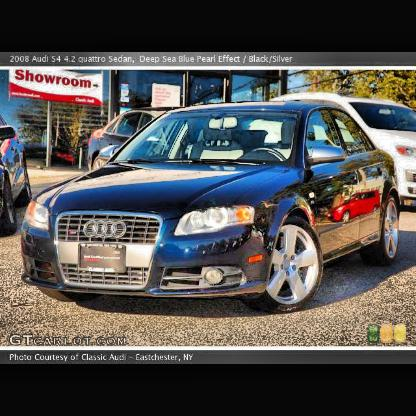Audi S4 Sedan 2007: (20, 101, 402, 314)
